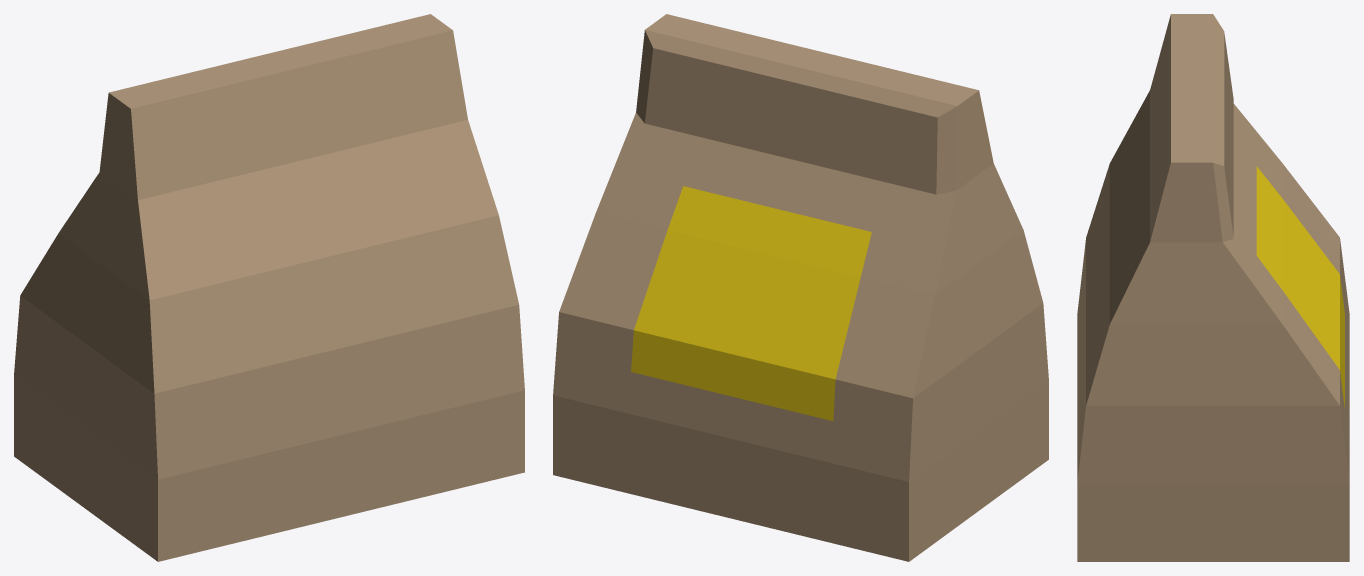
File: Seeds.fbx
The picture shows the model from 3 angles, left to right: view 1: azimuth 30°, elevation 25°; view 2: azimuth 150°, elevation 25°; view 3: azimuth 270°, elevation 25°; orthographic projection. The views are drawn at different scales.
Parts seen in each view (by area): view 1: Cube; view 2: Cube; view 3: Cube.
Part boxes in pixels (x1=…): Cube: x1=14, y1=14, x2=524, y2=561; Cube: x1=553, y1=14, x2=1048, y2=561; Cube: x1=1077, y1=14, x2=1349, y2=561.
Bounding box in the file's own units: 294 × 315 × 200.
